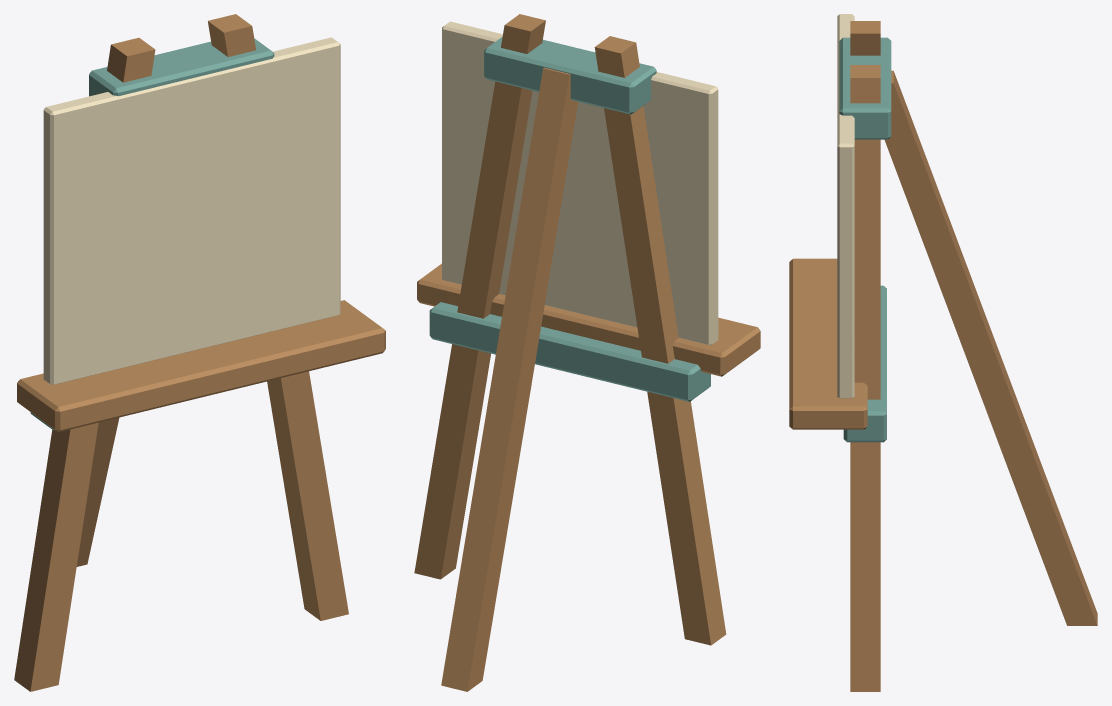
3 renders of one model, left to right at view 1: azimuth 30°, elevation 25°; view 2: azimuth 150°, elevation 25°; view 3: azimuth 270°, elevation 25°, orthographic. The views are drawn at different scales.
Parts seen in each view (by area): view 1: painting-easel-01; view 2: painting-easel-01; view 3: painting-easel-01.
Boxes of the visible parts, x1,y1,x2,y2 form: painting-easel-01: (14,14,385,691); painting-easel-01: (414,14,760,691); painting-easel-01: (789,14,1097,691).
Size of the model in its own units: 0.82 by 1.45 by 0.71.
